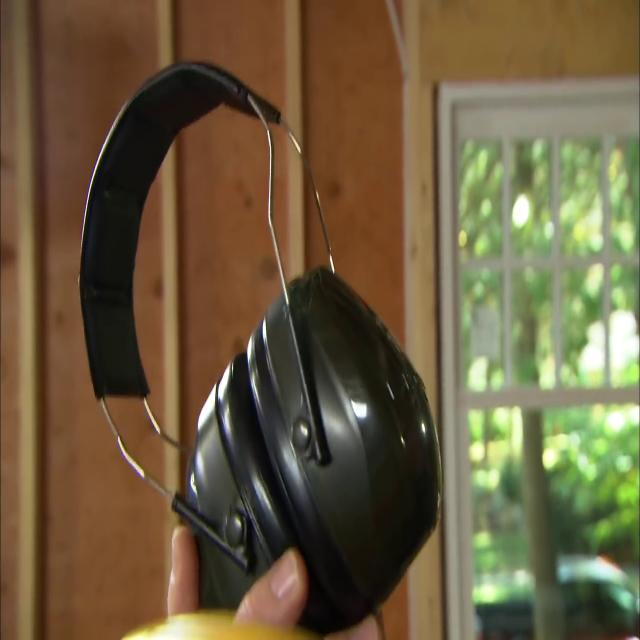earmuff: (248, 262, 444, 598), (184, 344, 368, 640)
